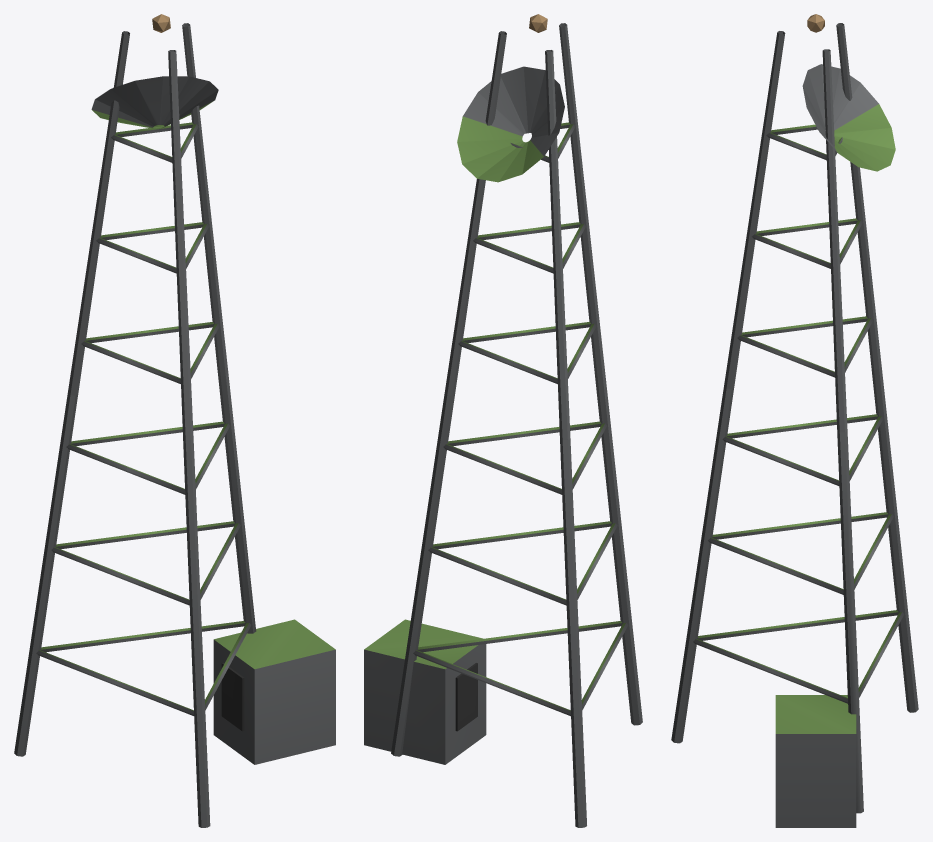
Rendered from obj_antena.glb.
3 renders of one model, left to right at view 1: azimuth 30°, elevation 25°; view 2: azimuth 150°, elevation 25°; view 3: azimuth 270°, elevation 25°, orthographic.
Parts seen in each view (by area): view 1: propforge-libre-antena; view 2: propforge-libre-antena; view 3: propforge-libre-antena.
Part boxes in pixels (x1,y1,x2,y2): propforge-libre-antena: [14, 14, 335, 827]; propforge-libre-antena: [364, 14, 642, 827]; propforge-libre-antena: [671, 14, 918, 827].
Size of the model in its own units: 0.7396 by 2.13 by 0.6443.
